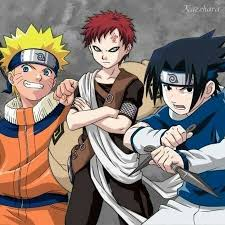gaara: (87, 26, 134, 71)
naruto: (7, 49, 59, 103)
sasuke: (156, 68, 216, 116)
